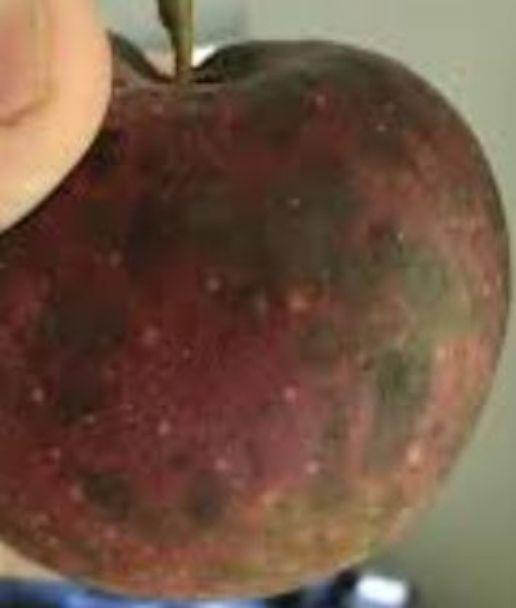BLOTCH: (0, 19, 498, 593)
